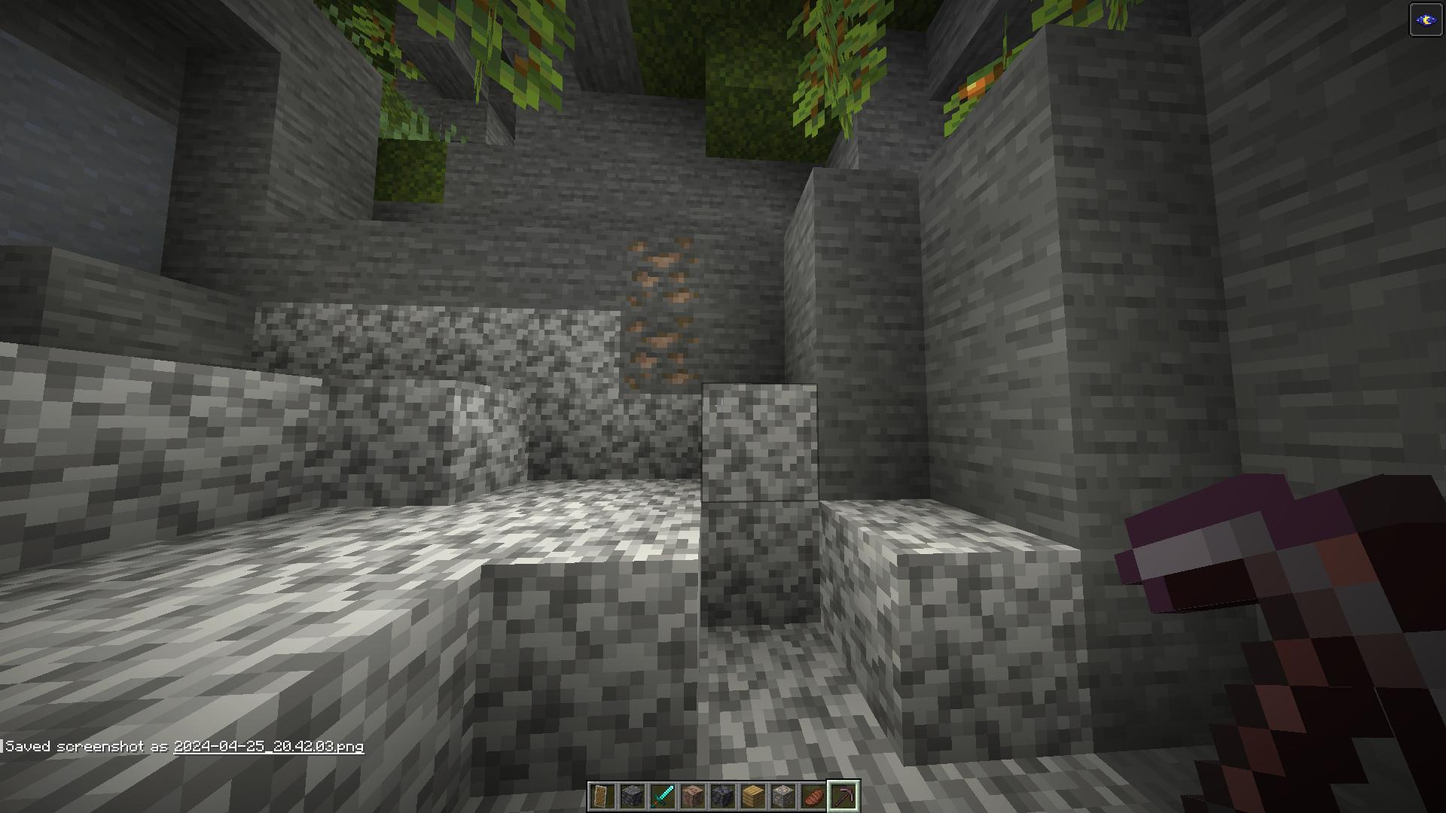iron ore: (620, 229, 702, 316), (622, 313, 700, 393)
